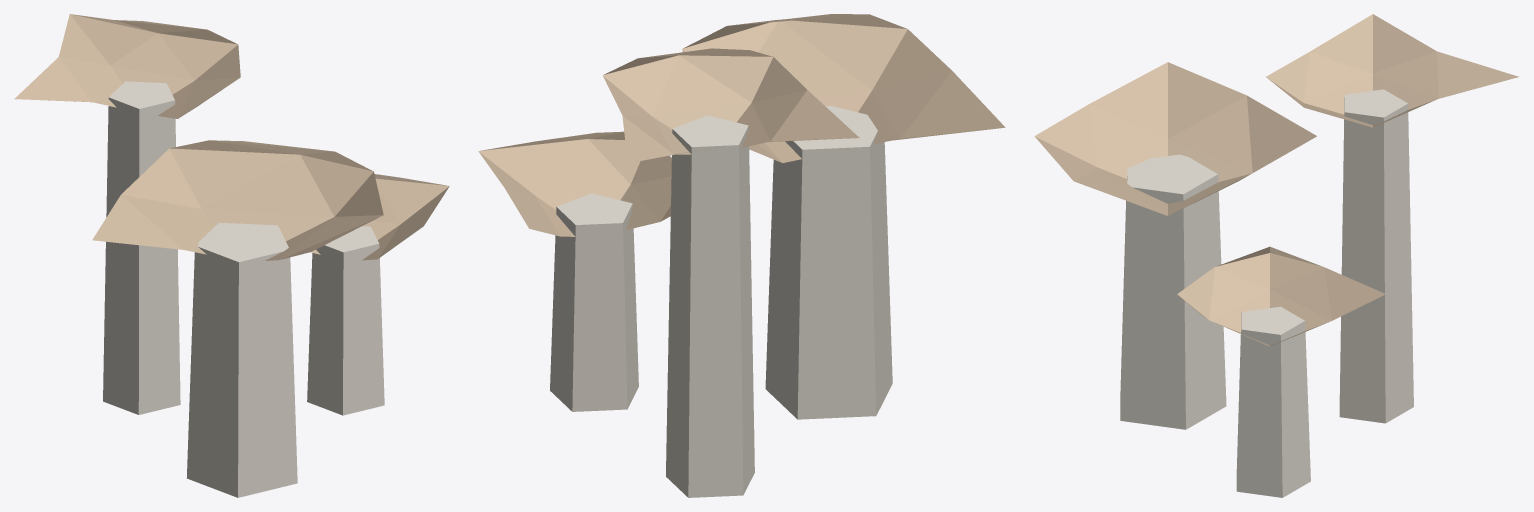
The model's file is mushroom_v45.glb.
3 renders of one model, left to right at view 1: azimuth 30°, elevation 25°; view 2: azimuth 150°, elevation 25°; view 3: azimuth 270°, elevation 25°, orthographic. The views are drawn at different scales.
Parts seen in each view (by area): view 1: lod0; view 2: lod0; view 3: lod0.
Part boxes in pixels (x1,y1,x2,y2): lod0: (14,14,449,497); lod0: (478,14,1005,497); lod0: (1034,14,1518,497).
Size of what is drawn, in the model's own units: 0.4791 by 0.422 by 0.4926.
